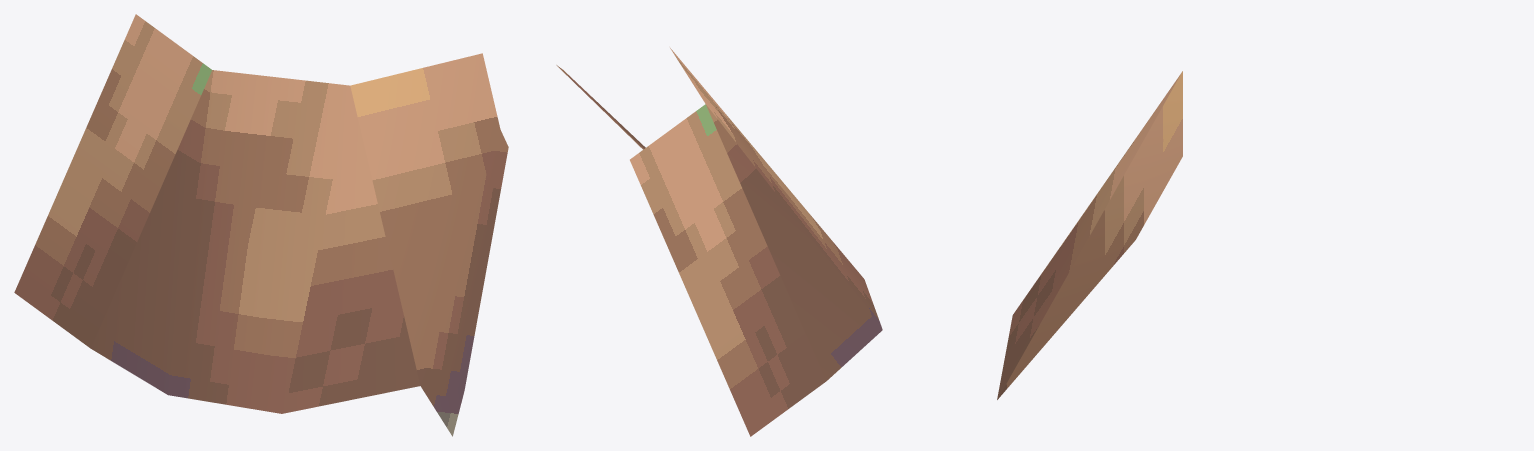
3 views of the same model, side by side, from view 1: azimuth 30°, elevation 25°; view 2: azimuth 150°, elevation 25°; view 3: azimuth 270°, elevation 25° (orthographic). The views are drawn at different scales.
Size of the model in its own units: 1.29 by 0.9971 by 1.5.
Materials: 2 (2 with a texture image).
